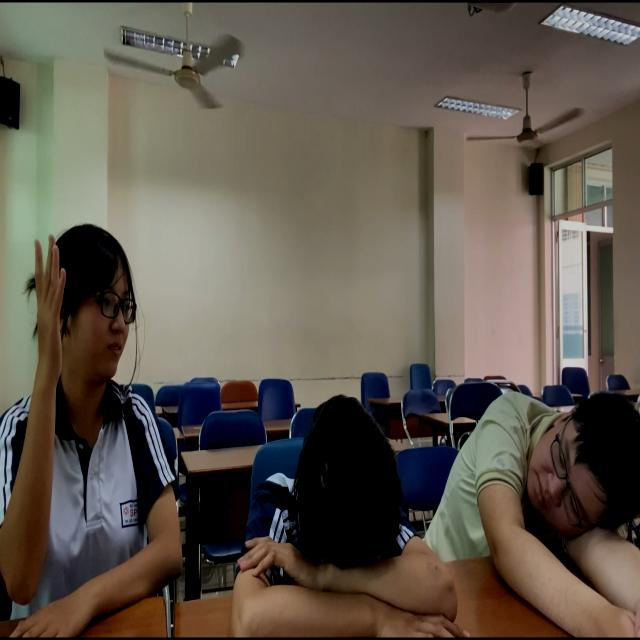raise_hand: (1, 224, 196, 640)
sleep: (234, 378, 446, 638), (445, 373, 640, 606)
